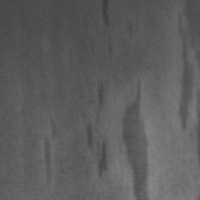inclusion: (119, 77, 151, 199), (170, 1, 199, 133), (82, 114, 110, 181), (39, 115, 61, 193), (92, 79, 110, 121), (97, 1, 115, 32)
